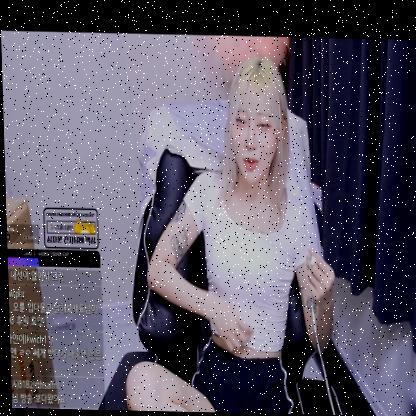streamer: (117, 55, 337, 415)
